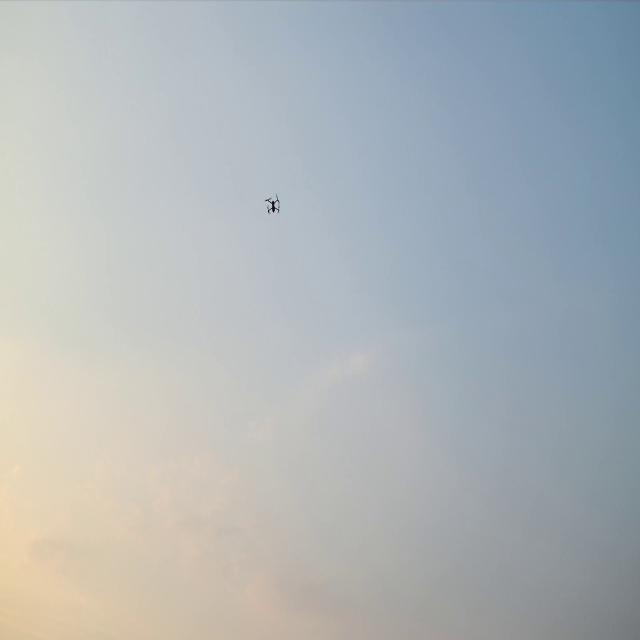UAV: (266, 197, 279, 212)
